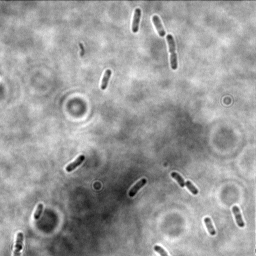Dividing: (170, 170, 200, 195), (167, 34, 179, 70)
Rod: (127, 177, 148, 198), (65, 153, 87, 173), (151, 13, 167, 37), (231, 204, 246, 228), (100, 67, 113, 91), (131, 7, 142, 34), (203, 216, 217, 236), (33, 202, 45, 220)
